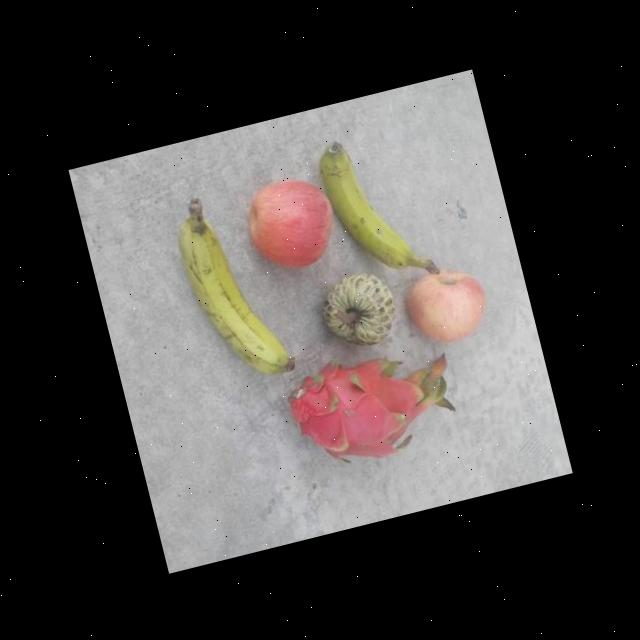Sakya fruit: (314, 264, 404, 354)
apple: (397, 258, 496, 352)
banana: (166, 181, 298, 391), (314, 123, 442, 294)
pitaya: (278, 328, 465, 478)
